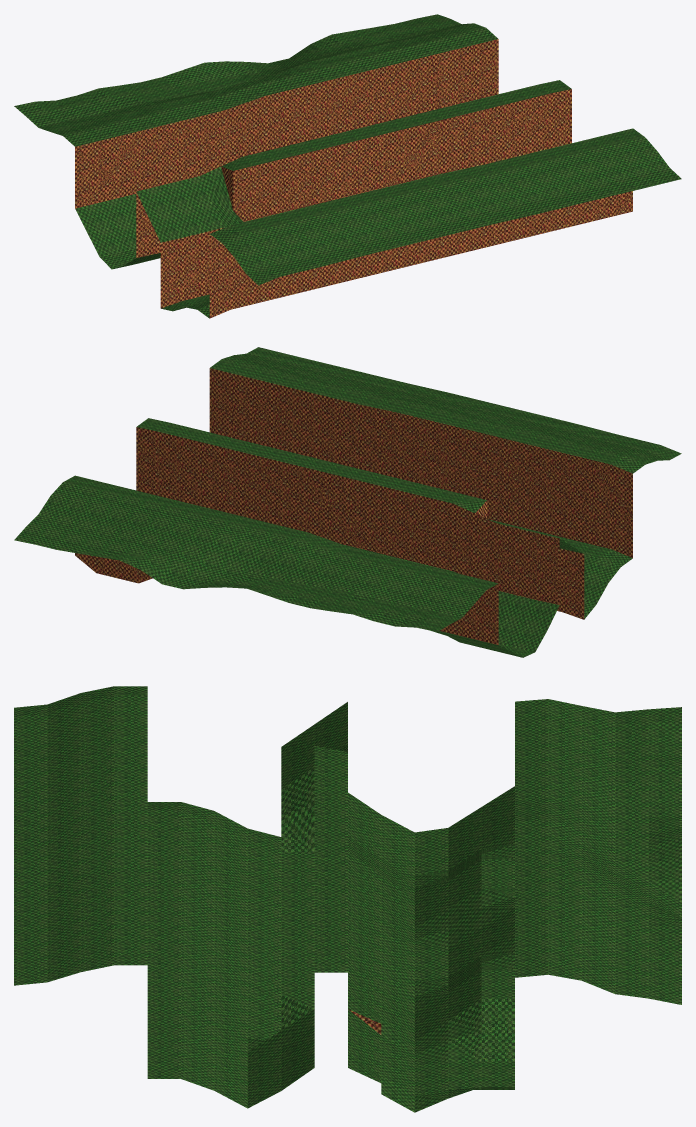
Rendered from Terrain Chunk1.fbx.
The picture shows the model from 3 angles, top to bottom: view 1: azimuth 30°, elevation 25°; view 2: azimuth 150°, elevation 25°; view 3: azimuth 270°, elevation 25°; orthographic projection. The views are drawn at different scales.
Parts seen in each view (by area): view 1: Terrain_Chunk_Clone_, sidemesh_3_4; view 2: sidemesh_3_4, Terrain_Chunk_Clone_; view 3: Terrain_Chunk_Clone_.
Part boxes in pixels (x1,y1,x2,y2): Terrain_Chunk_Clone_: (14,14,681,318); sidemesh_3_4: (75,39,632,318); sidemesh_3_4: (75,368,632,644); Terrain_Chunk_Clone_: (14,347,681,657); Terrain_Chunk_Clone_: (14,686,681,1112).
Bounding box in the file's own units: 10000 × 2574 × 10000.
2 materials, 2 textured.
